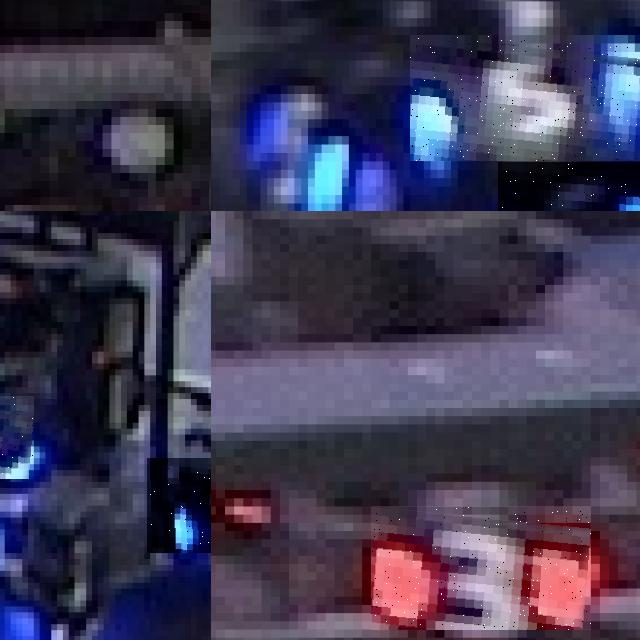B1: (147, 458, 211, 553)
B5: (410, 34, 640, 161), (233, 77, 348, 211), (498, 161, 640, 211)
R3: (371, 506, 591, 630)
